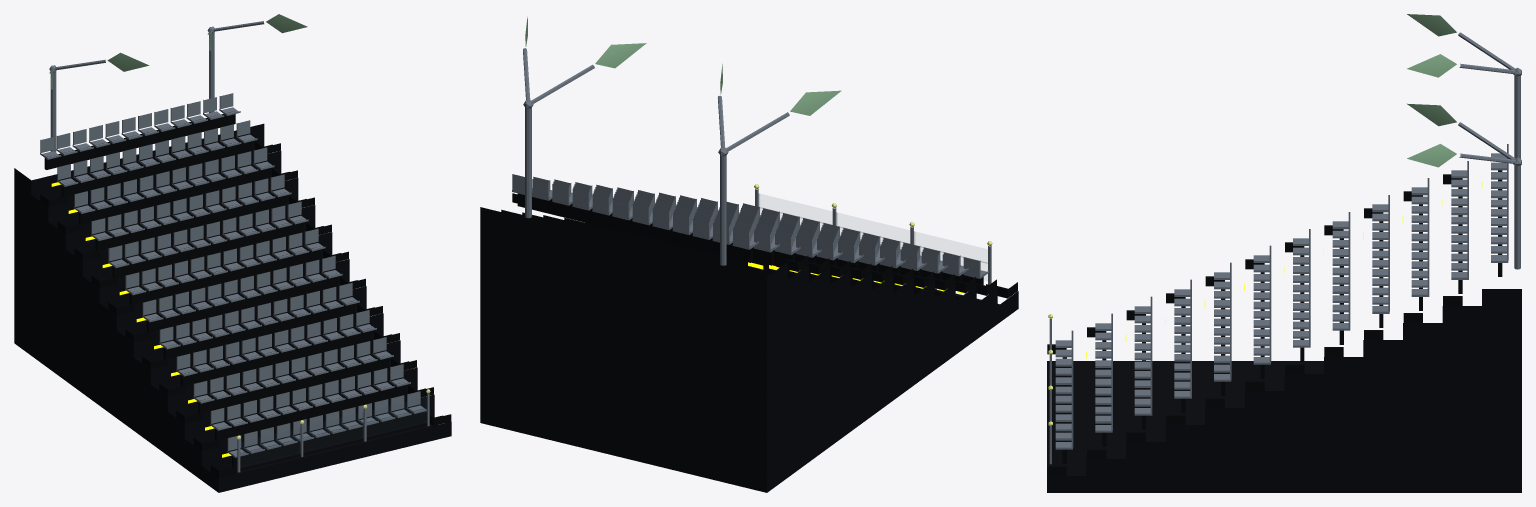
File: v6_hybrid_f3.glb
3 renders of one model, left to right at view 1: azimuth 30°, elevation 25°; view 2: azimuth 150°, elevation 25°; view 3: azimuth 270°, elevation 25°, orthographic. The views are drawn at different scales.
Visible parts, largest first — view 1: Tier_Concrete, Seat_Backs, Seat_Beams, Seat_Pans, Aisle_Steps, Canopy_Steel, Canopy_Leaves, Rail_Posts; view 2: Tier_Concrete, Seat_Backs, Seat_Beams, Canopy_Steel, Aisle_Steps, Seat_Pans, Canopy_Leaves; view 3: Tier_Concrete, Seat_Pans, Aisle_Steps, Seat_Backs, Canopy_Steel, Canopy_Leaves, Seat_Beams.
Part boxes in pixels (x1,y1,x2,y2): Tier_Concrete: [14, 123, 451, 492]; Seat_Backs: [40, 93, 420, 450]; Seat_Beams: [44, 112, 422, 467]; Seat_Pans: [40, 107, 426, 457]; Aisle_Steps: [40, 141, 451, 477]; Canopy_Steel: [49, 21, 264, 152]; Canopy_Leaves: [51, 14, 307, 89]; Rail_Posts: [237, 393, 429, 472]; Tier_Concrete: [480, 207, 1018, 492]; Seat_Backs: [512, 174, 980, 276]; Seat_Beams: [517, 193, 983, 284]; Canopy_Steel: [523, 48, 789, 265]; Aisle_Steps: [512, 193, 1017, 298]; Seat_Pans: [512, 188, 989, 278]; Canopy_Leaves: [525, 17, 841, 115]; Tier_Concrete: [1047, 289, 1521, 492]; Seat_Pans: [1055, 153, 1508, 449]; Aisle_Steps: [1047, 174, 1462, 475]; Seat_Backs: [1071, 144, 1508, 447]; Canopy_Steel: [1458, 32, 1521, 269]; Canopy_Leaves: [1407, 14, 1456, 167]; Seat_Beams: [1062, 170, 1502, 463].
Size of the model in its own units: 8.22 by 9.2 by 11.4.
7 materials, 4 textured.
